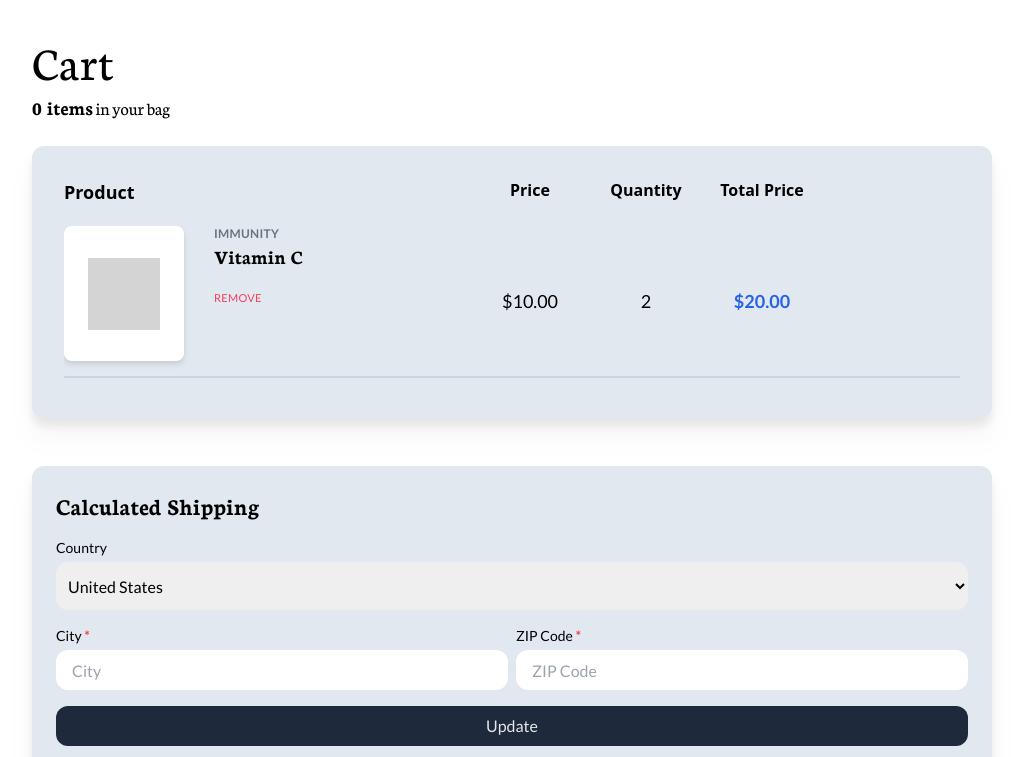
CartPage payment › disables the checkout button while the payment request is pending
Type "Austin" into the field with placeholder "City".
click(282, 670); type("Austin")  # box [56,650,508,690]
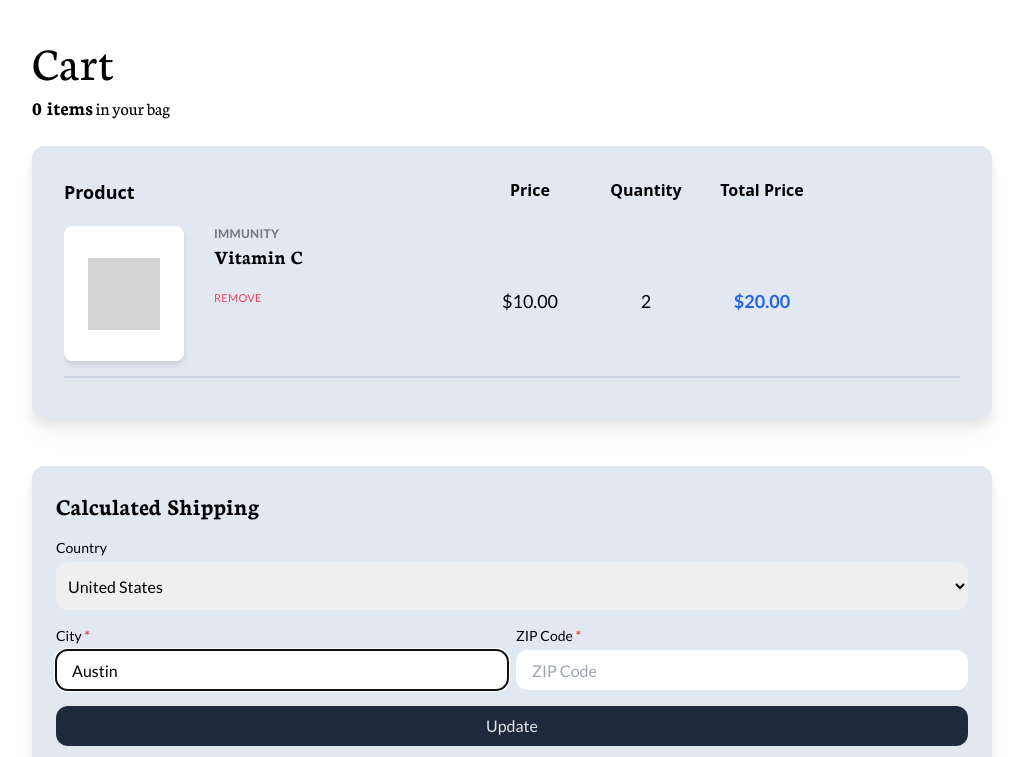
Type "73301" into the field with placeholder "ZIP Code".
click(742, 670); type("73301")  # box [516,650,968,690]
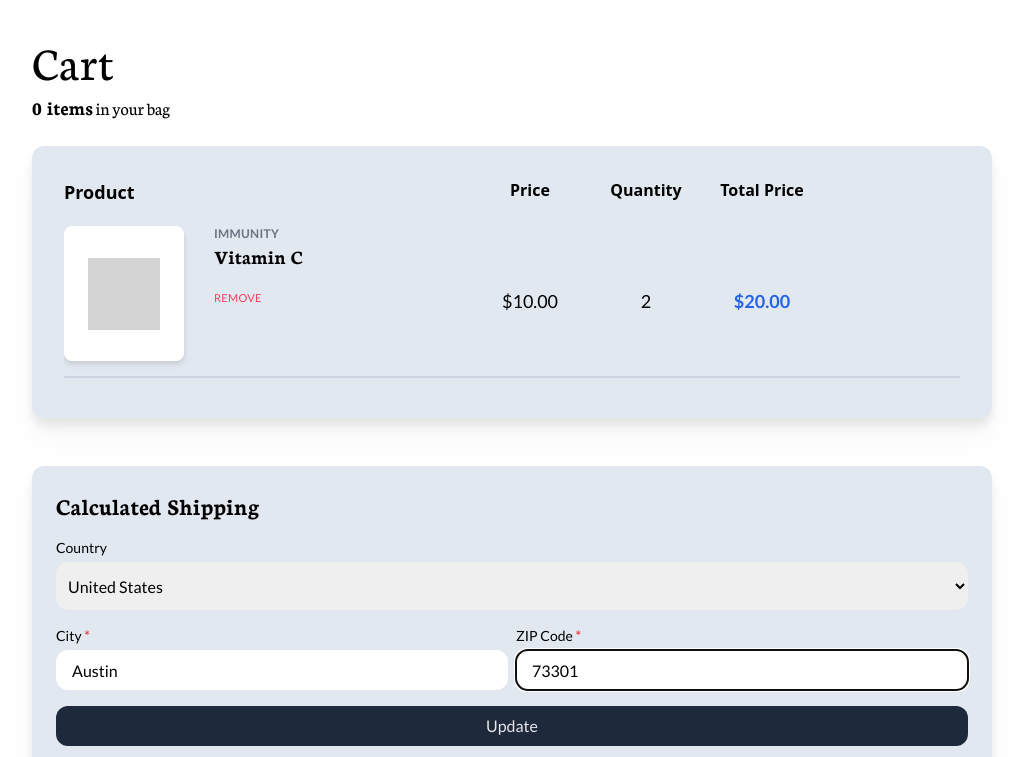
Click the button "Update".
click(512, 726)  # box [56,706,968,746]
(page scrolled)
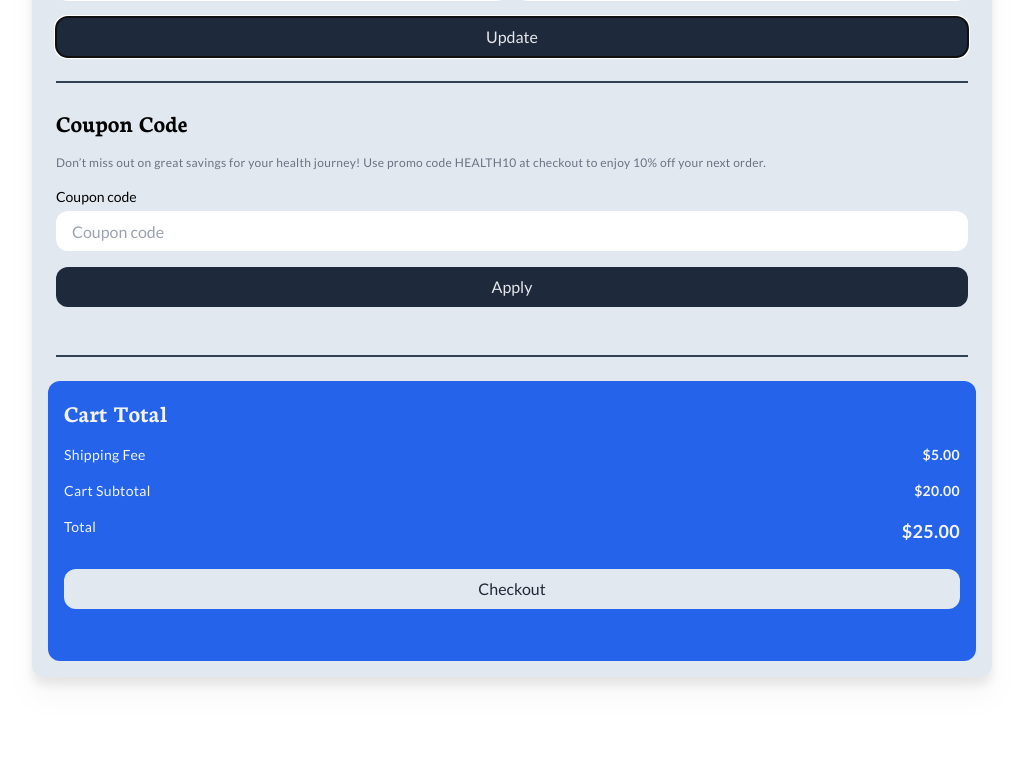
Click the button "Checkout".
click(512, 589)  # box [64,569,960,609]
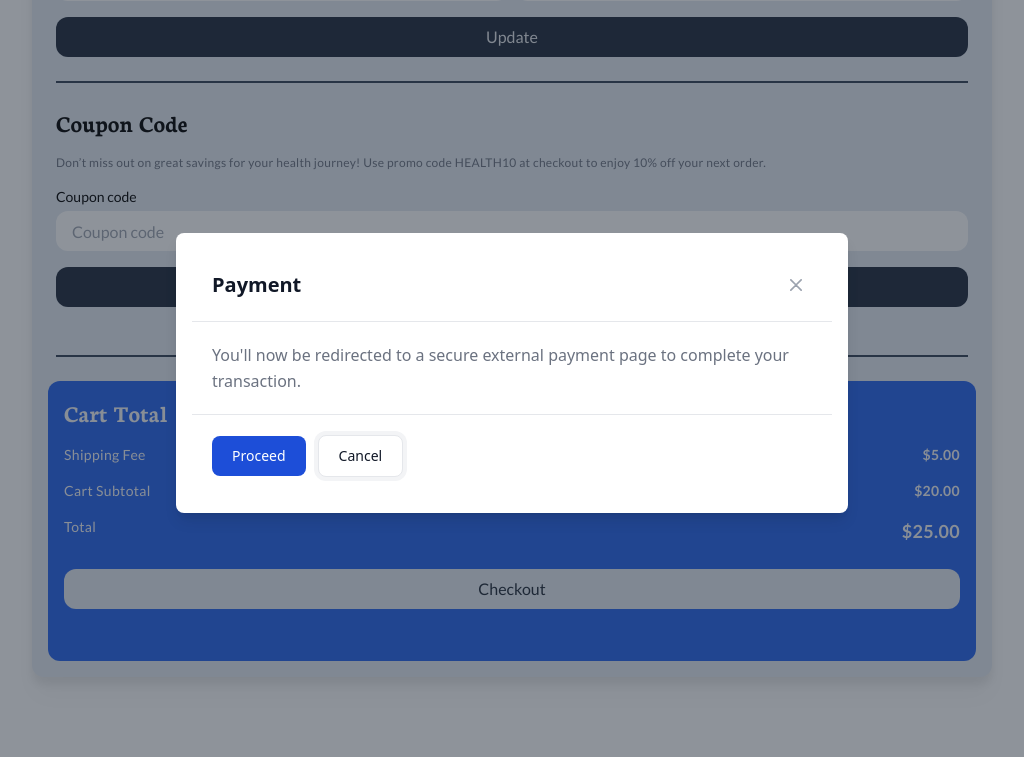
Click the button "Proceed".
click(259, 456)  # box [212,436,306,476]
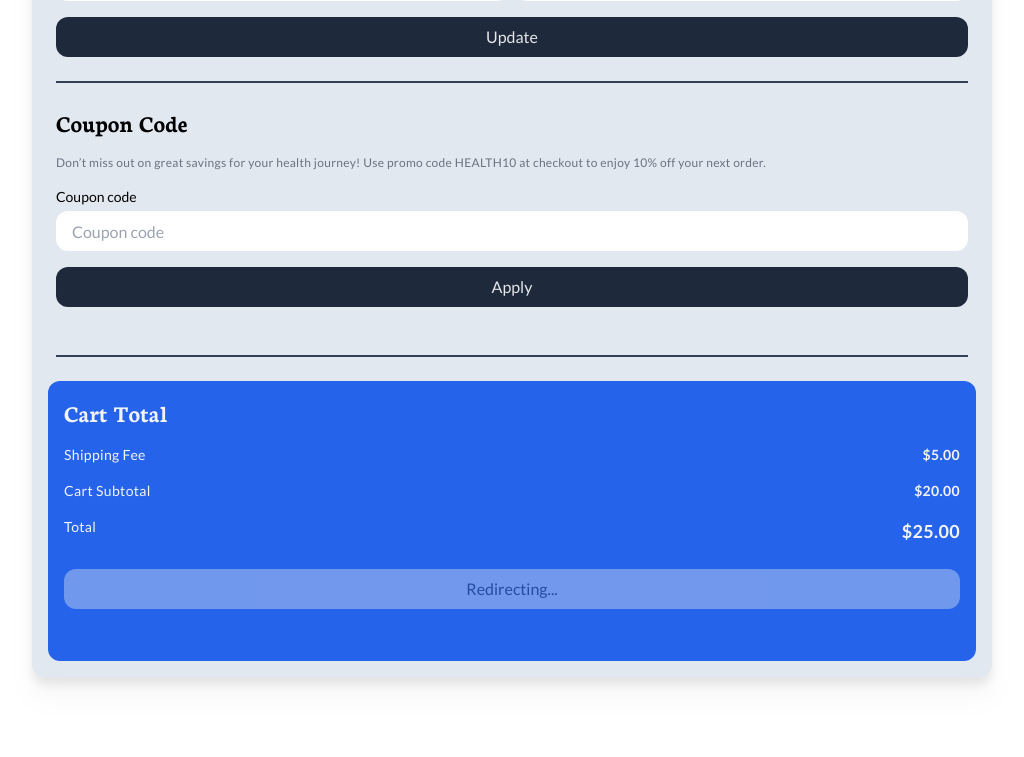
Expected: the button "Redirecting..." is disabled, [64,569,960,609]
